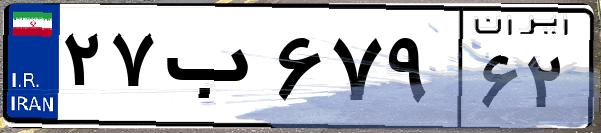2: (57, 26, 110, 100), (525, 38, 570, 115)
6: (270, 28, 330, 110), (475, 38, 525, 113)
7: (330, 28, 385, 110), (110, 28, 158, 98)
9: (385, 28, 445, 110)
ب: (158, 20, 270, 120)
